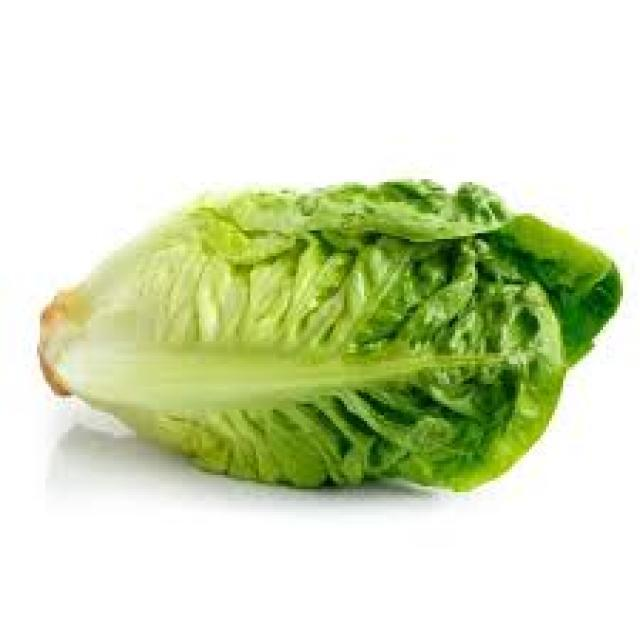Lettuce: (40, 180, 618, 495)
